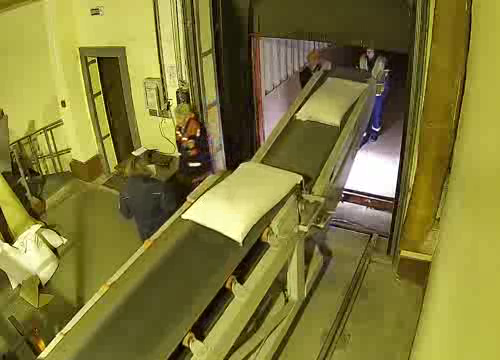bag: (182, 159, 303, 246), (295, 77, 371, 129)
